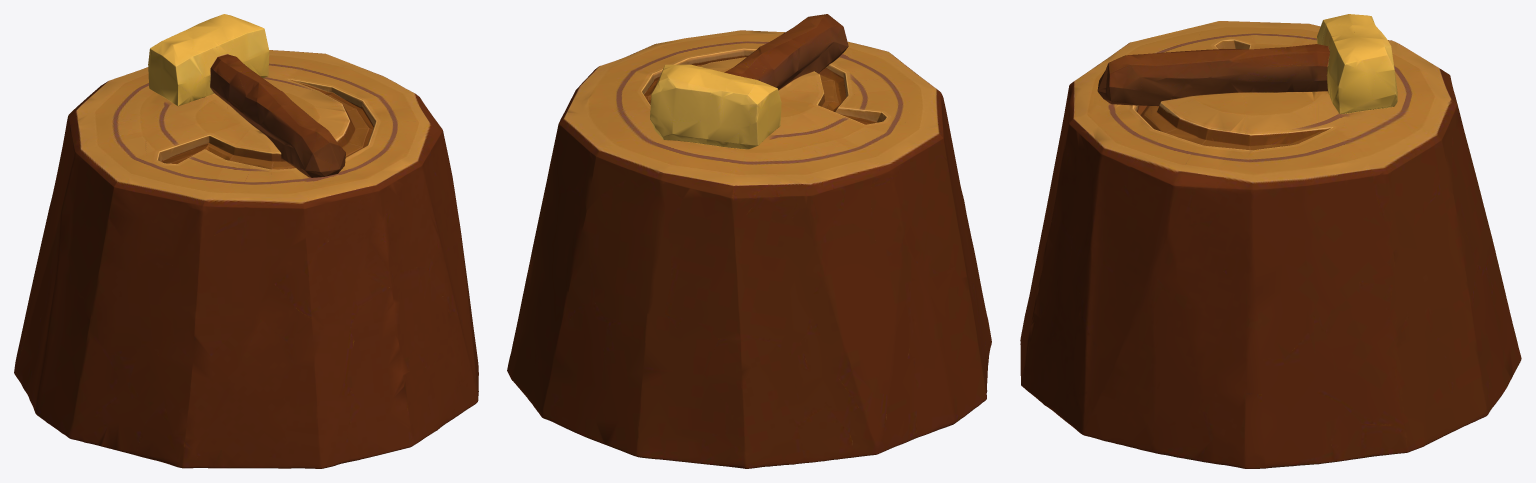
The model's file is bridge-stump.glb.
3 renders of one model, left to right at view 1: azimuth 30°, elevation 25°; view 2: azimuth 150°, elevation 25°; view 3: azimuth 270°, elevation 25°, orthographic. The views are drawn at different scales.
Visible parts, largest first — view 1: bridge-stump-hammer-sickle; view 2: bridge-stump-hammer-sickle; view 3: bridge-stump-hammer-sickle.
Boxes of the visible parts, left/top/right/bottom form: bridge-stump-hammer-sickle: left=14, top=14, right=478, bottom=468; bridge-stump-hammer-sickle: left=507, top=14, right=991, bottom=468; bridge-stump-hammer-sickle: left=1020, top=14, right=1521, bottom=468.
Size of the model in its own units: 1.16 by 0.8503 by 1.16.
Materials: 1 (1 with a texture image).
